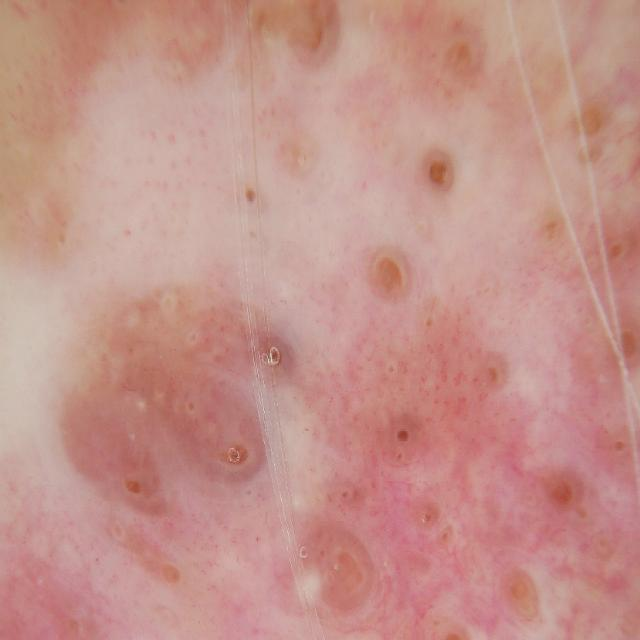Melanoma: (51, 183, 578, 640)
